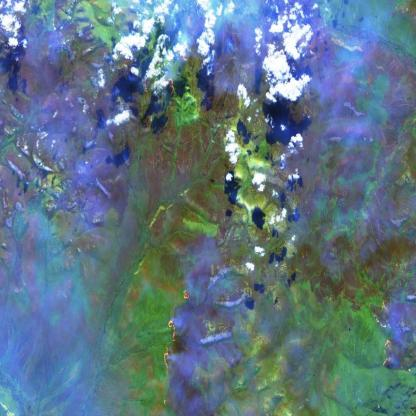fire: (149, 276, 205, 416), (366, 274, 409, 377)
